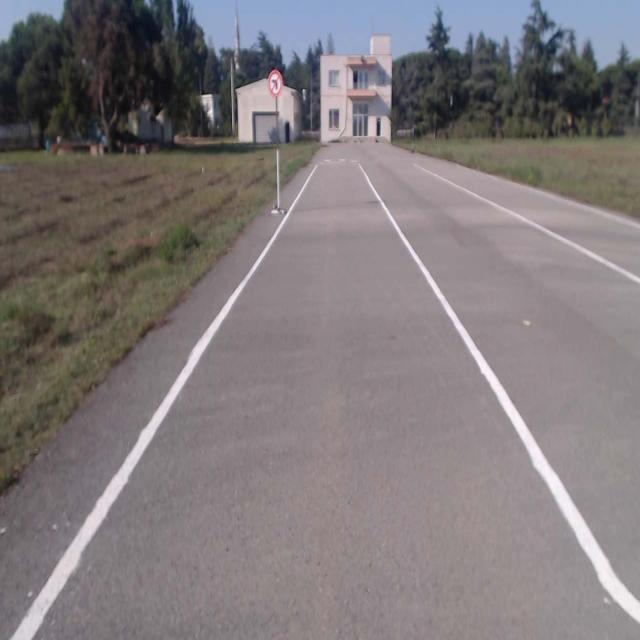soladonulmez: (268, 70, 282, 96)
